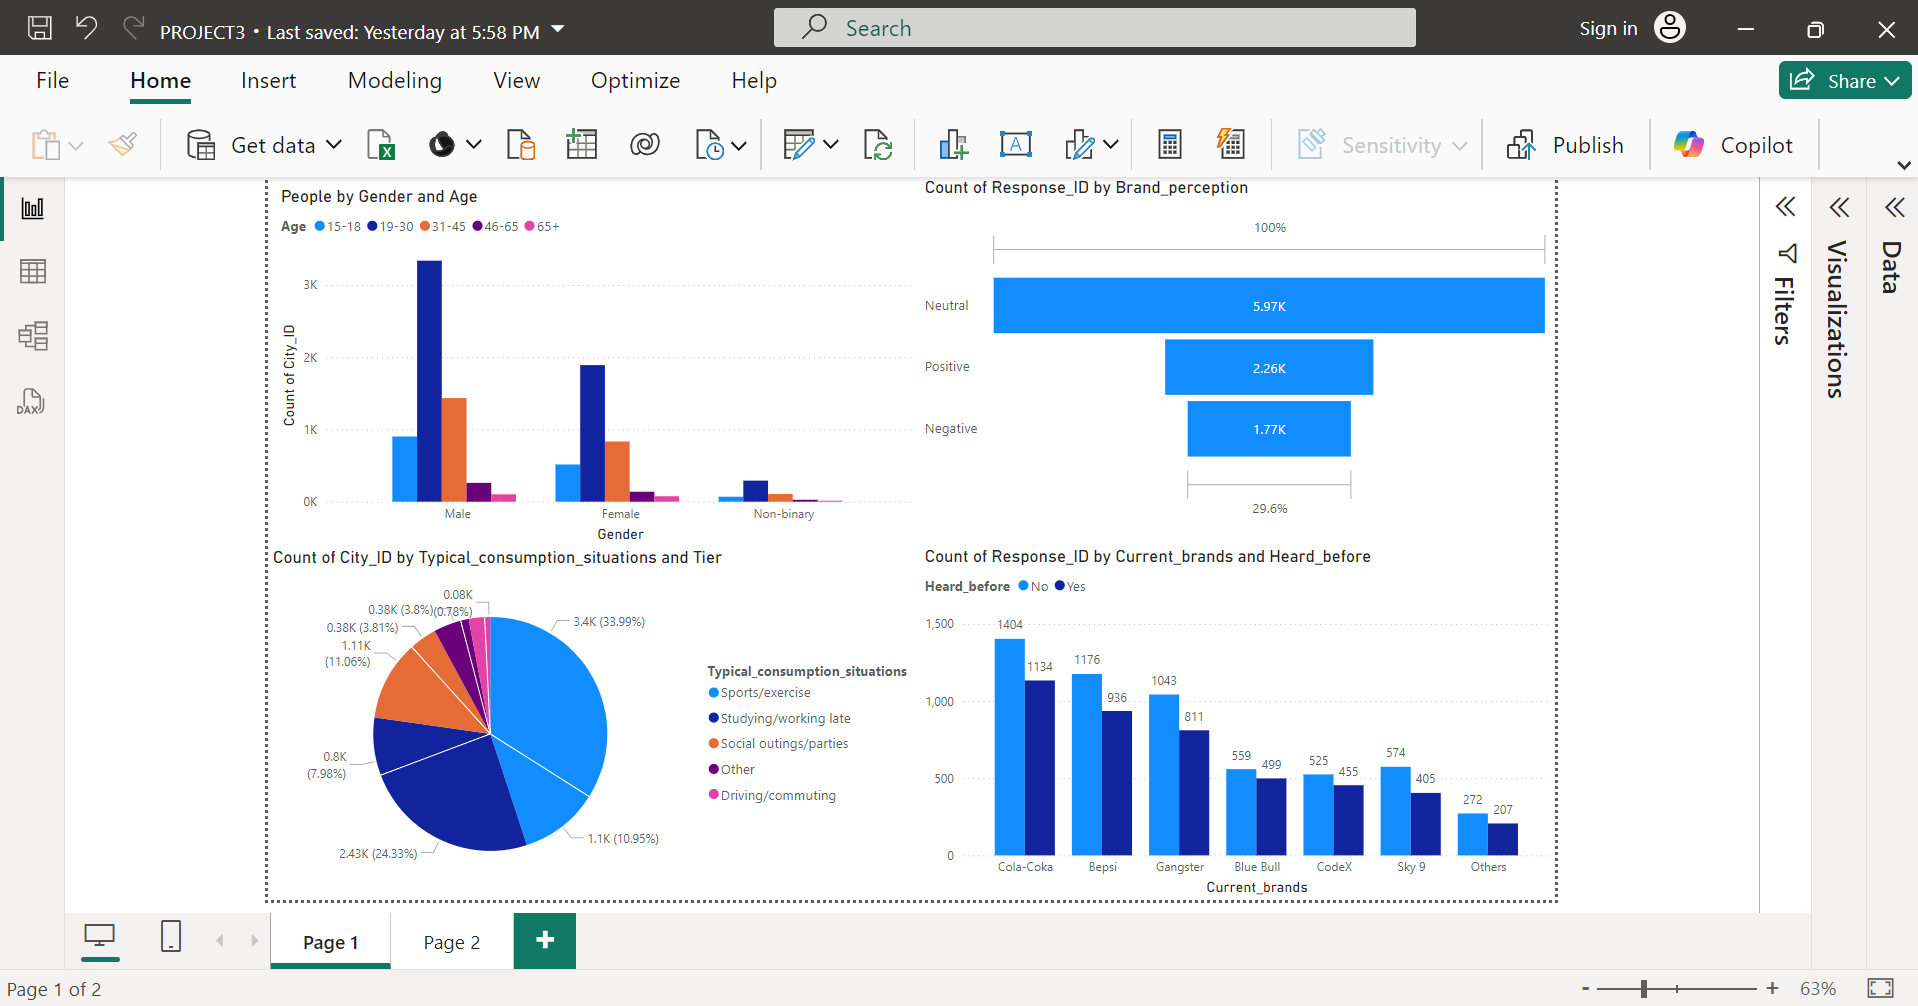

This screenshot's page, from the dashboard's own definition file:
{"tool":"powerbi","page":{"name":"Page 1","canvas":[1280,720],"ordinal":0},"visuals":[{"type":"clusteredColumnChart","title":"People by Gender and Age","fields":{"Category":["Worksheet (2).Gender"],"Y":["CountNonNull(Worksheet (2).City_ID)"],"Series":["Worksheet (2).Age"]},"box":[8.3,10,640,358.3],"z":0},{"type":"pieChart","fields":{"Y":["CountNonNull(Worksheet (2).City_ID)"],"Series":["Worksheet (4).Tier"],"Category":["Worksheet (3).Typical_consumption_situations"]},"box":[0,368.3,638.3,351.7],"z":1000},{"type":"clusteredColumnChart","fields":{"Y":["CountNonNull(Worksheet (3).Response_ID)"],"Category":["Worksheet (3).Current_brands"],"Series":["Worksheet (3).Heard_before"]},"box":[647.5,367.5,632.5,352.5],"z":2000},{"type":"funnel","fields":{"Category":["Worksheet (3).Brand_perception"],"Y":["CountNonNull(Worksheet (3).Response_ID)"]},"box":[648,0,632,359],"z":3000}]}

Visuals, with their boxes on the page's 1280x720 design canvas (x1, y1, x2, y2). These are canvas units, not pixel positions in the 1918x1006 screenshot, which may show the page scaled, cropped or inside an application window:
"People by Gender and Age" clusteredColumnChart: left=8, top=10, right=648, bottom=368
pieChart - CountNonNull(Worksheet (2).City_ID) x Worksheet (4).Tier: left=0, top=368, right=638, bottom=720
clusteredColumnChart - CountNonNull(Worksheet (3).Response_ID) x Worksheet (3).Current_brands: left=648, top=368, right=1280, bottom=720
funnel - Worksheet (3).Brand_perception x CountNonNull(Worksheet (3).Response_ID): left=648, top=0, right=1280, bottom=359
